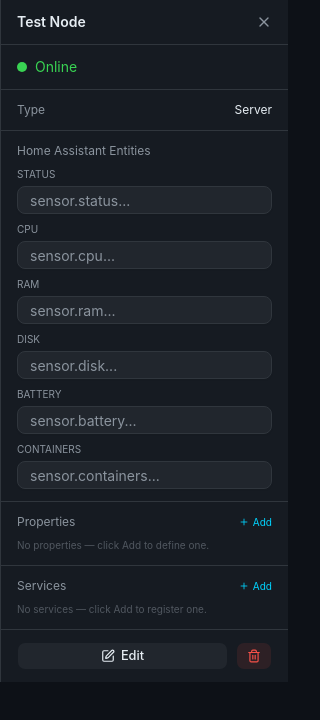
Test: DetailPanel › Services — add/remove › shows add form when Add is clicked
The image size is (320, 720).
# There are multiple "Add" buttons (services + properties) — find the one after "Properties"
Click the 2nd button "Add".
click(255, 586)  # box [239,578,272,594]
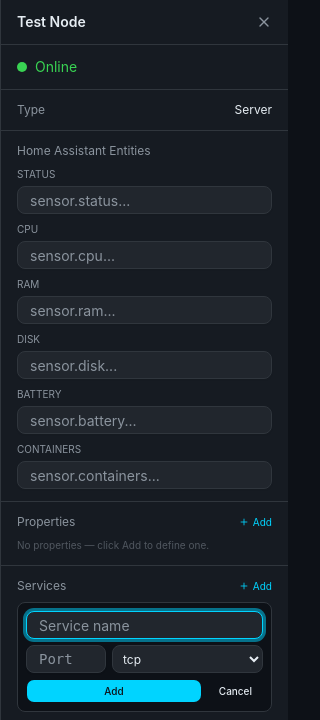
Check: the field with placeholder "Service name" is shown, box [26,611,263,639]
